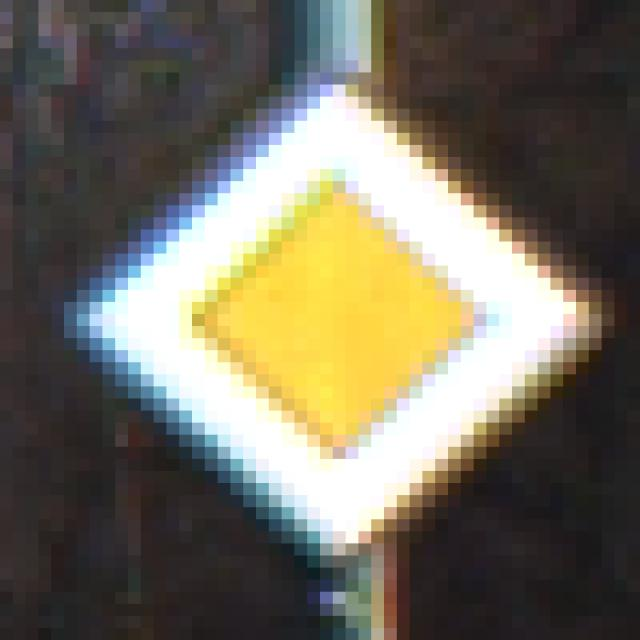Main Road: (65, 74, 577, 581)
